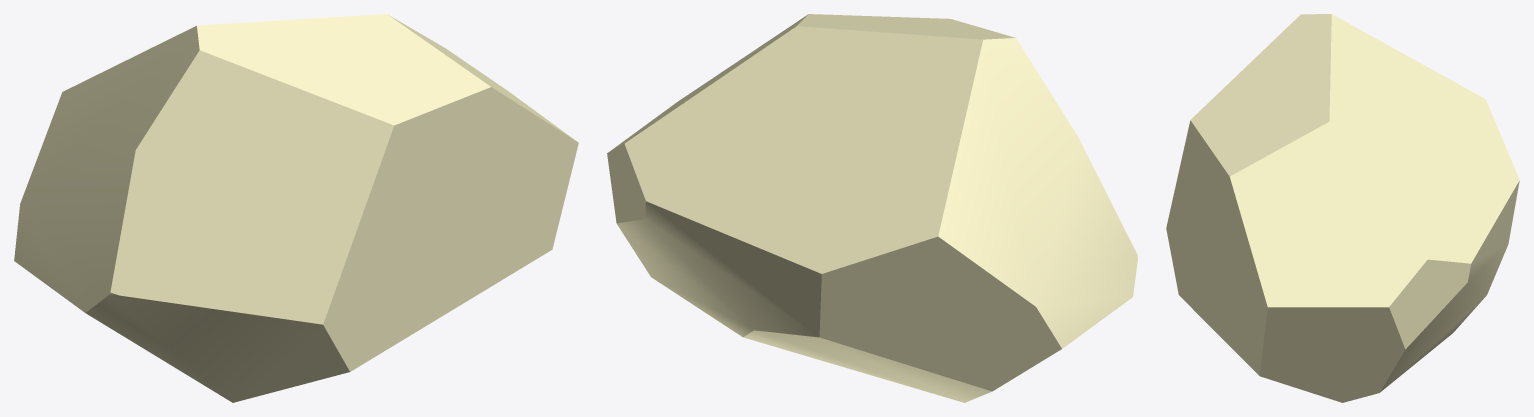
The model's file is stone_dropped.glb.
The picture shows the model from 3 angles, left to right: view 1: azimuth 30°, elevation 25°; view 2: azimuth 150°, elevation 25°; view 3: azimuth 270°, elevation 25°; orthographic projection. The views are drawn at different scales.
Parts seen in each view (by area): view 1: Sphere.003; view 2: Sphere.003; view 3: Sphere.003.
Part boxes in pixels (x1,y1,x2,y2): Sphere.003: (14,14,578,402); Sphere.003: (607,14,1137,402); Sphere.003: (1166,14,1519,402).
Bounding box in the file's own units: 0.6562 × 0.4792 × 0.4929.
Materials: 1 (1 with a texture image).
